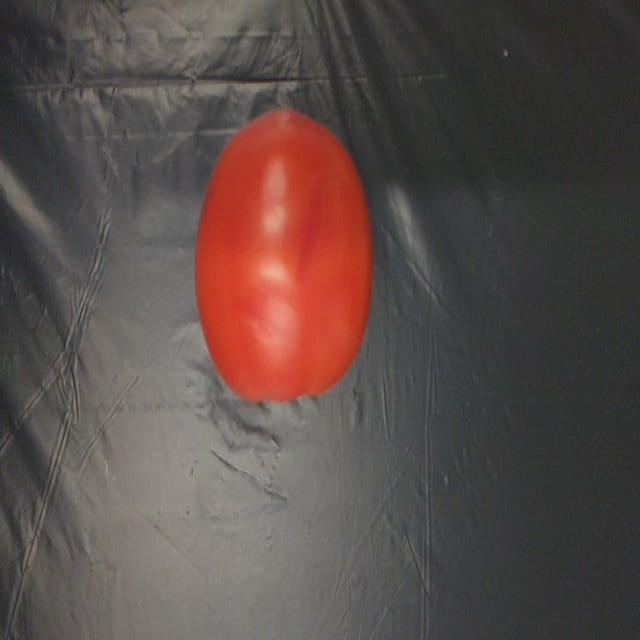kirmizi: (194, 105, 383, 408)
